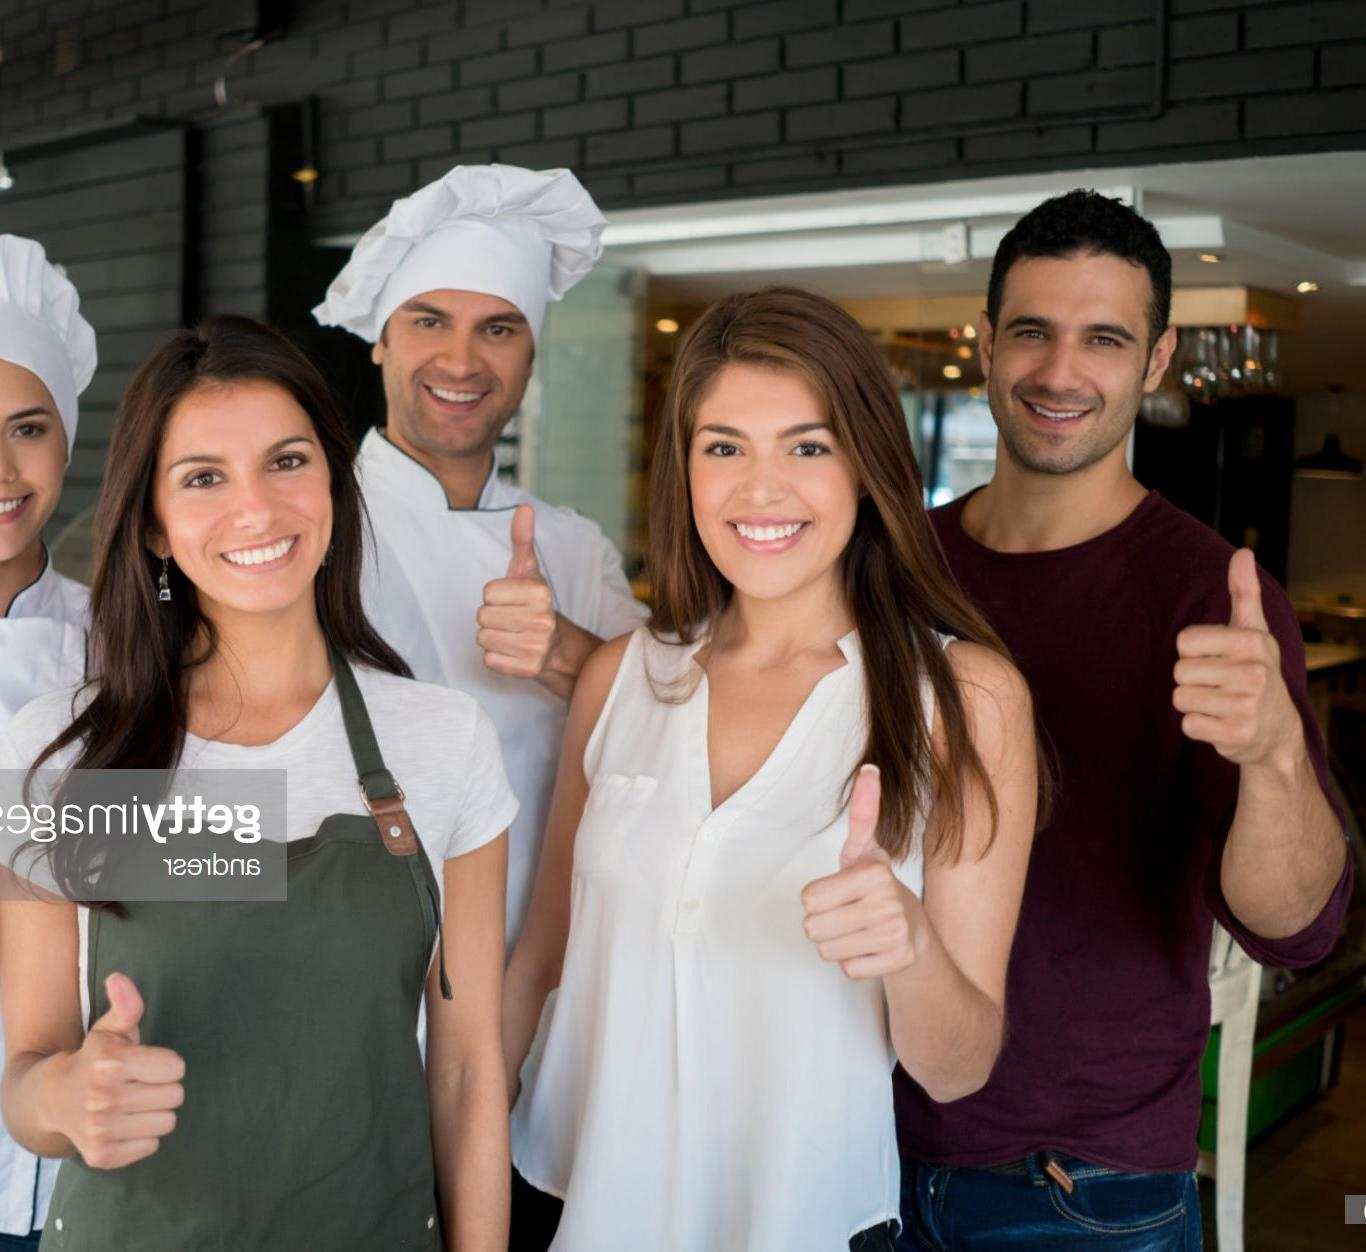thumbsup: (798, 763, 917, 982), (1170, 547, 1276, 749), (81, 972, 186, 1169), (475, 503, 558, 677)
